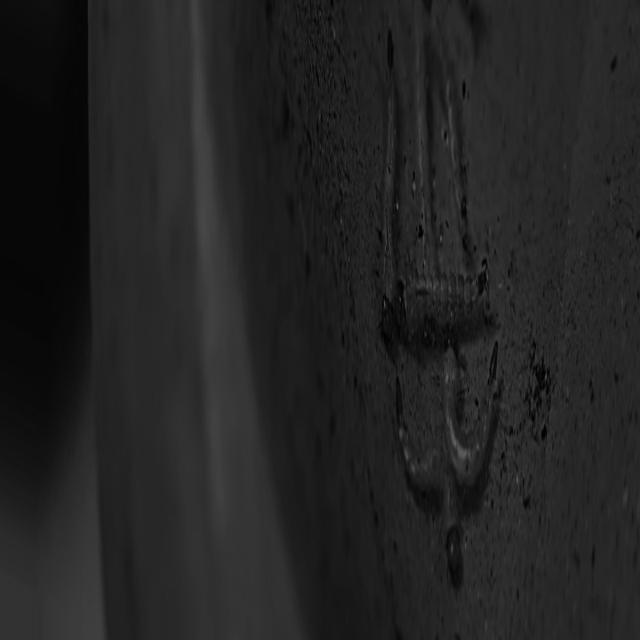larvas: (392, 378, 462, 572), (429, 12, 480, 235), (408, 1, 440, 274), (376, 26, 403, 339), (440, 334, 500, 468), (400, 260, 491, 313)
